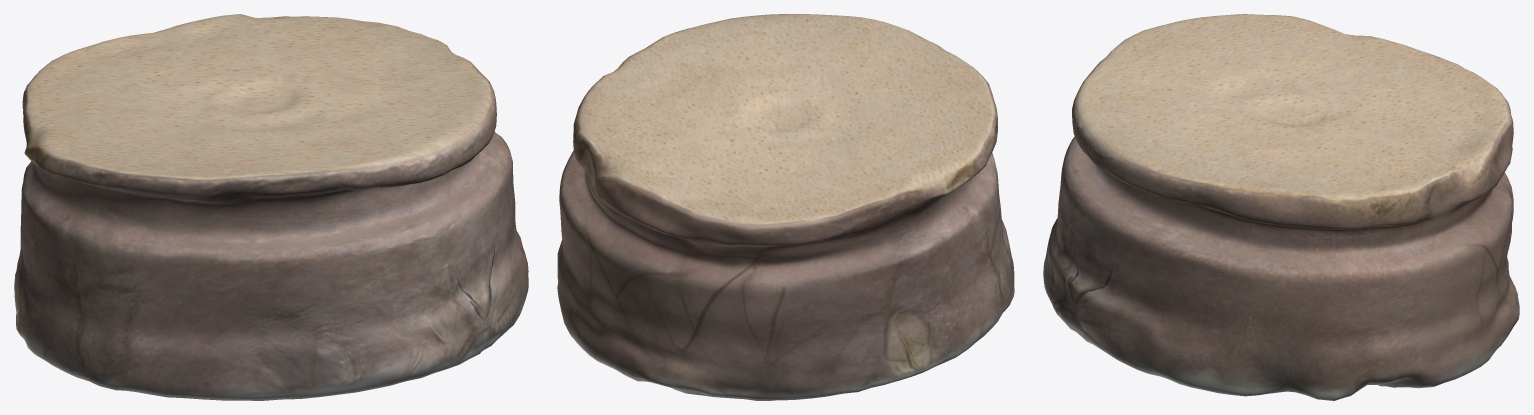
File: fig_303.glb
The picture shows the model from 3 angles, left to right: view 1: azimuth 30°, elevation 25°; view 2: azimuth 150°, elevation 25°; view 3: azimuth 270°, elevation 25°; orthographic projection. The views are drawn at different scales.
Bounding box in the file's own units: 1.94 × 1.06 × 1.98.
1 material, 1 textured.
